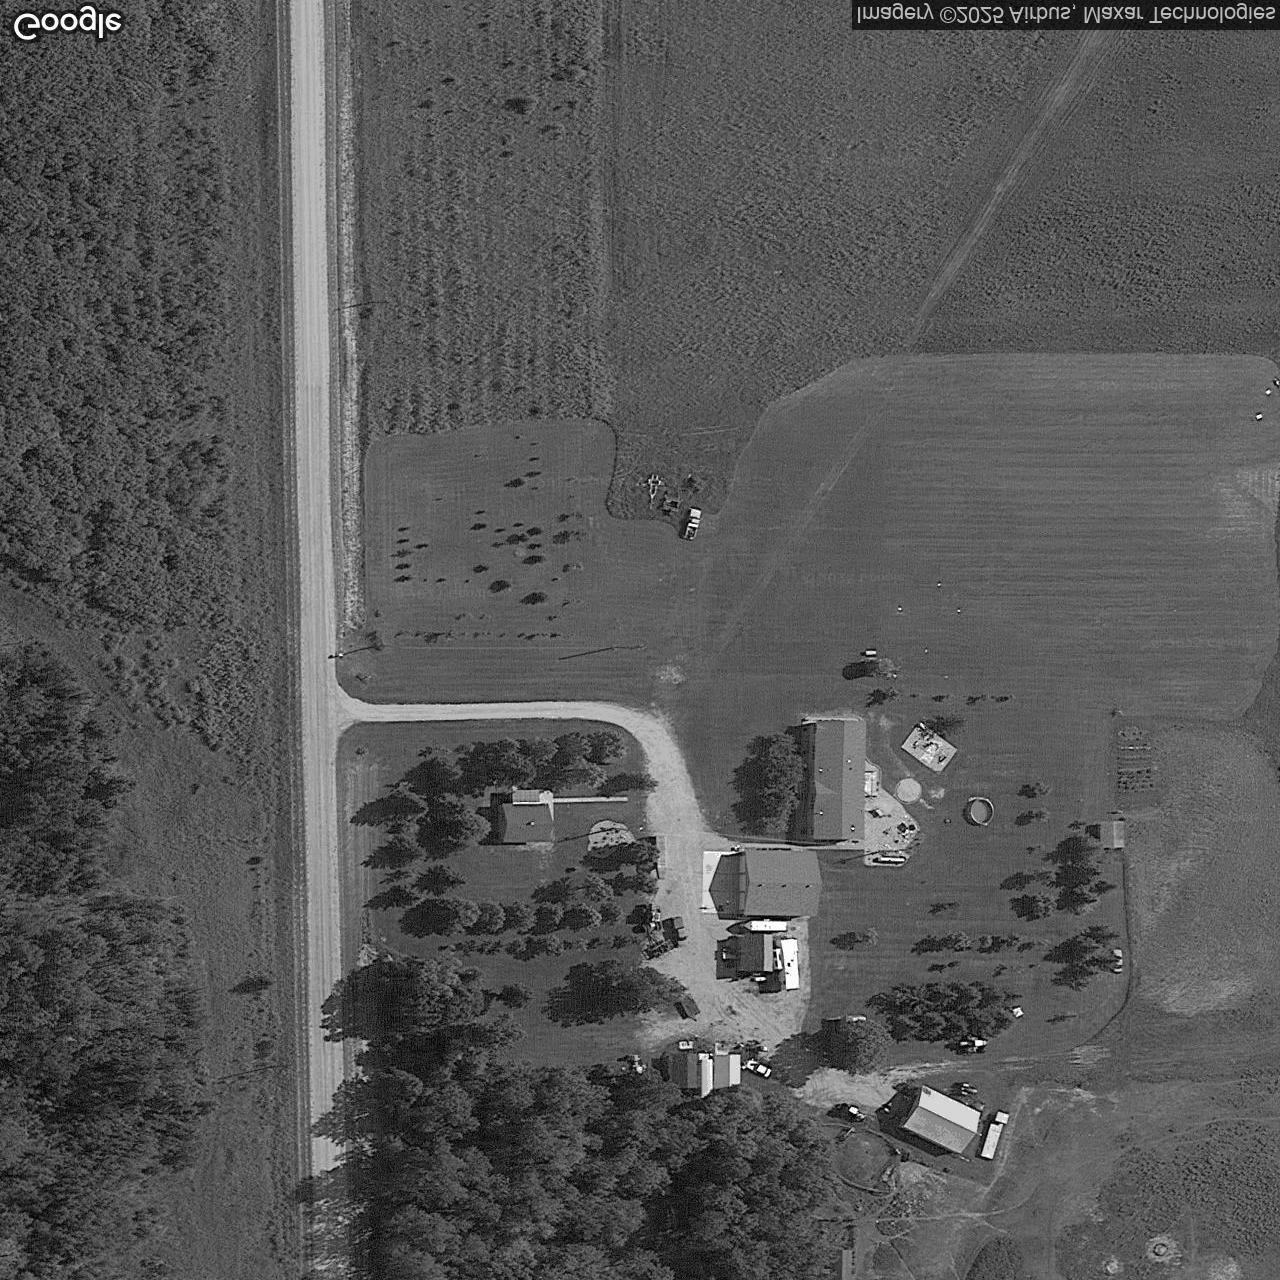Garage: (899, 1084, 981, 1153), (498, 802, 553, 843)
House: (801, 721, 866, 840), (737, 851, 822, 917)
Propane: (879, 855, 907, 864)
